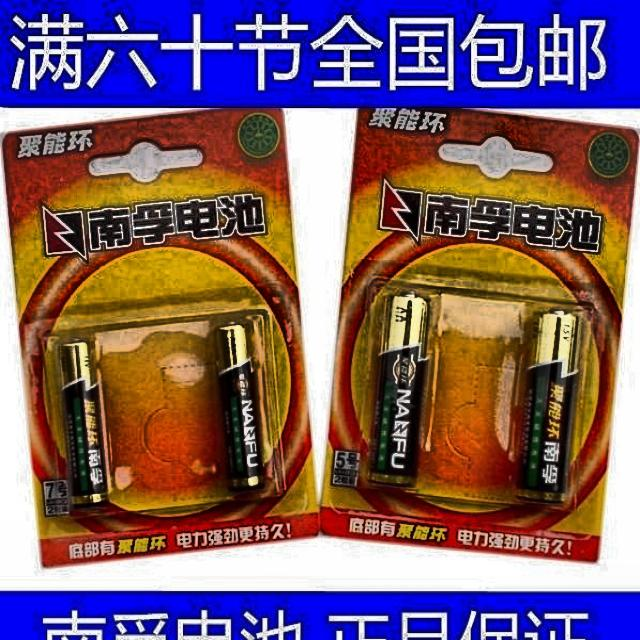Non-Valuable Waste - Batteries: (370, 294, 427, 485), (521, 311, 577, 500), (59, 342, 107, 505), (217, 326, 263, 491)
